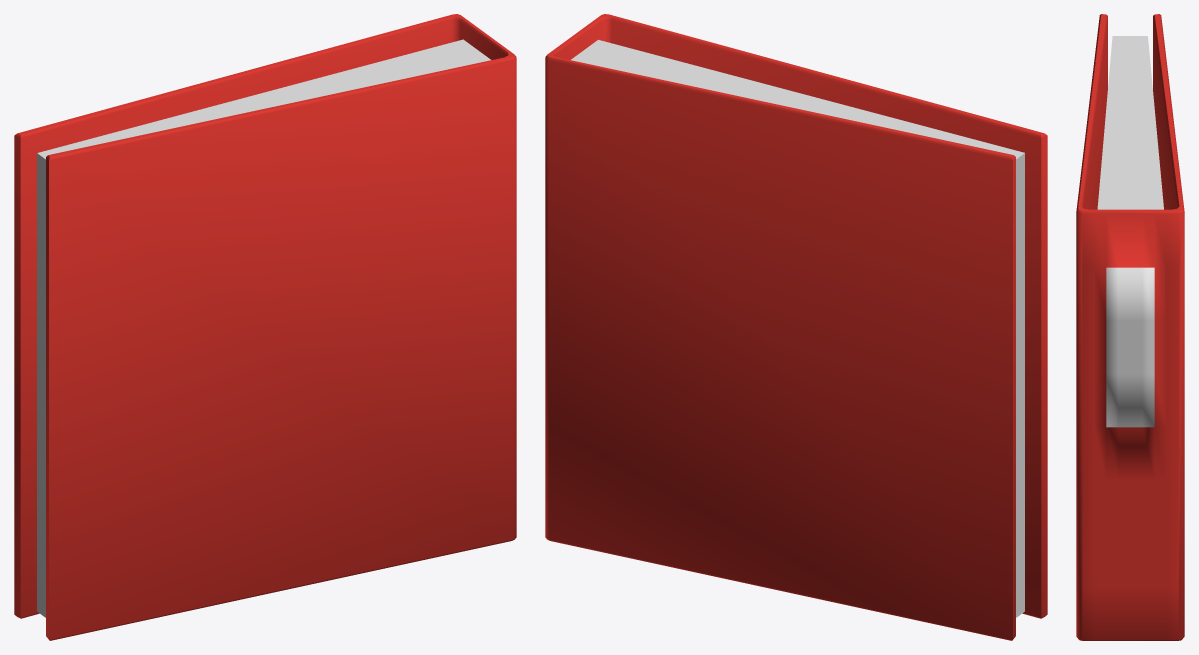
The model's file is binder.fbx.
The picture shows the model from 3 angles, left to right: view 1: azimuth 30°, elevation 25°; view 2: azimuth 150°, elevation 25°; view 3: azimuth 270°, elevation 25°; orthographic projection. The views are drawn at different scales.
Parts seen in each view (by area): view 1: cublicleBInder_low.001; view 2: cublicleBInder_low.001; view 3: cublicleBInder_low.001.
Boxes of the visible parts, left/top/right/bottom form: cublicleBInder_low.001: left=14, top=14, right=516, bottom=640; cublicleBInder_low.001: left=545, top=14, right=1047, bottom=640; cublicleBInder_low.001: left=1076, top=14, right=1184, bottom=640.
Bounding box in the file's own units: 25.9 × 26.05 × 5.93.
